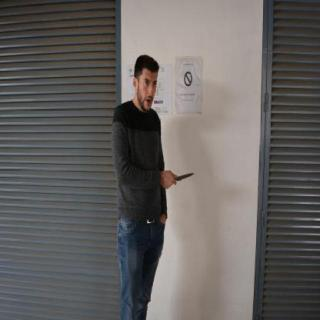knife: (170, 167, 197, 187)
